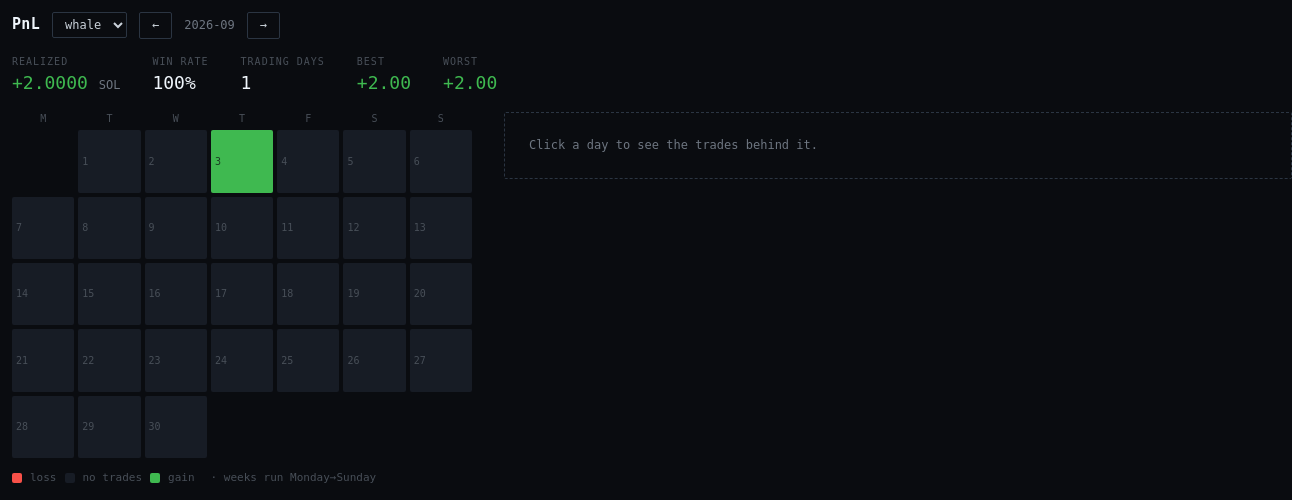
PnlTab › opens that day trades when a cell is clicked
The image size is (1292, 500).
Click the button "3" at {"x": 242, "y": 162}, box [211,130,273,193]
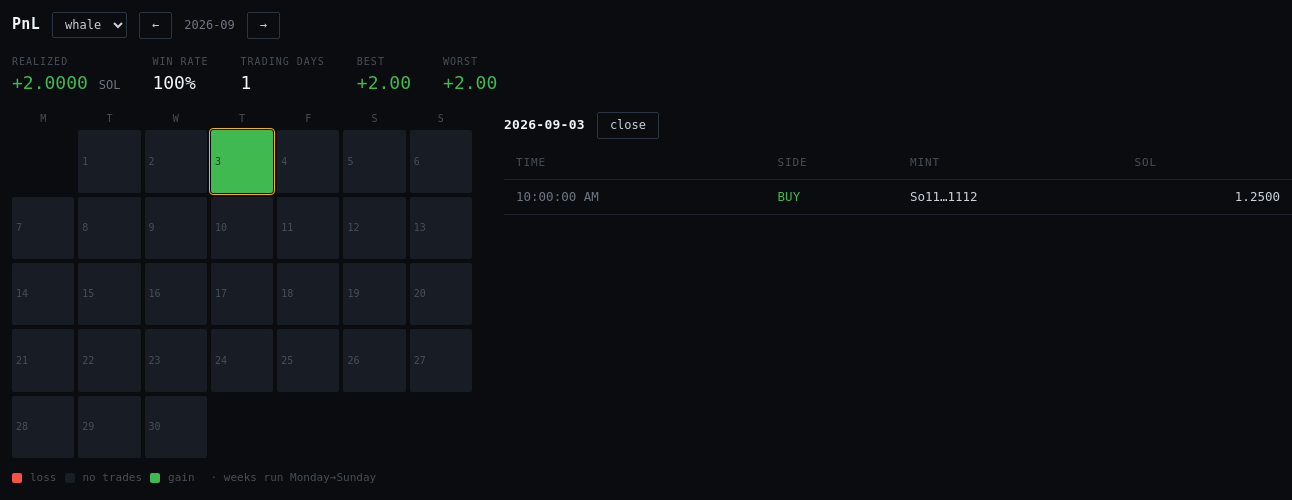
Check: the text "BUY" is shown once, box [766,180,898,215]
